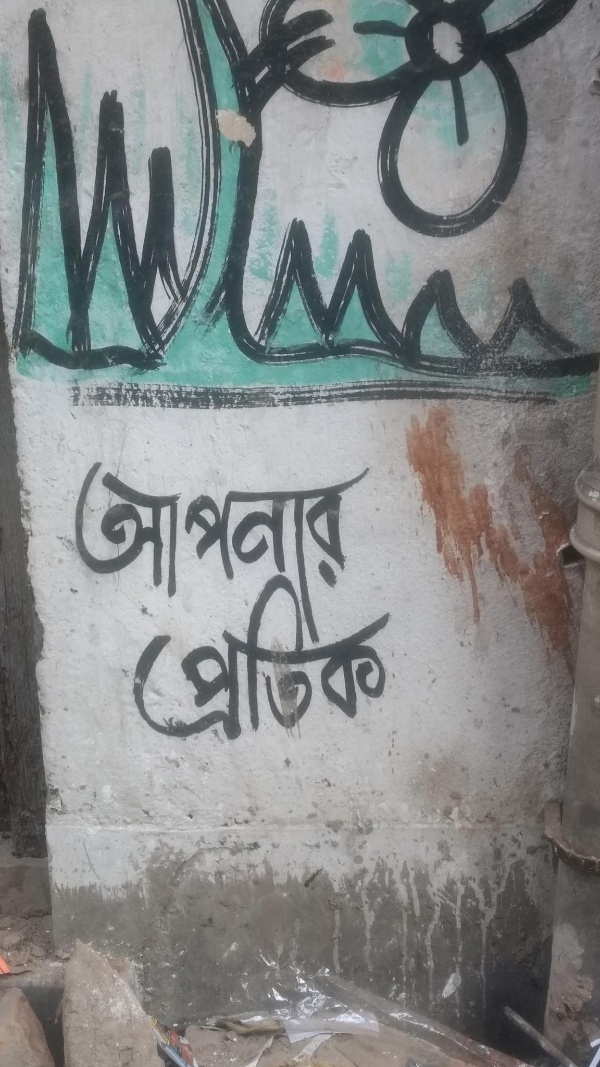text: (81, 457, 96, 645), (97, 457, 112, 645), (113, 457, 128, 645), (129, 457, 144, 645), (145, 457, 160, 645), (161, 457, 176, 645), (177, 457, 192, 645), (193, 457, 208, 645), (209, 457, 224, 645), (225, 457, 240, 645), (241, 457, 256, 645), (257, 457, 272, 645), (273, 457, 288, 645), (289, 457, 304, 645), (305, 457, 320, 645), (321, 457, 336, 645), (337, 457, 352, 645), (353, 457, 368, 645), (145, 572, 160, 744), (161, 572, 176, 744), (177, 572, 192, 744), (193, 572, 208, 744), (209, 572, 224, 744), (225, 572, 240, 744), (241, 572, 256, 744), (257, 572, 272, 744), (273, 572, 288, 744), (289, 572, 304, 744), (305, 572, 320, 744), (321, 572, 336, 744), (337, 572, 352, 744), (353, 572, 368, 744), (369, 572, 384, 744), (68, 457, 80, 645), (131, 572, 144, 744), (385, 572, 391, 744), (369, 457, 374, 645)
